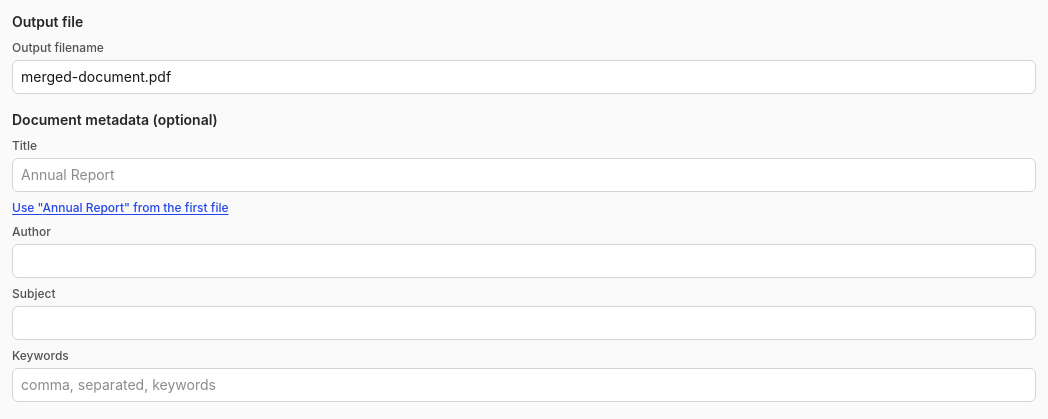
Test: MergePdfSettings › applies the suggested title only when the user clicks the suggestion
Click the button "Use \"Annual Report\" from the first file" at {"x": 120, "y": 208}, box [12,200,228,216]
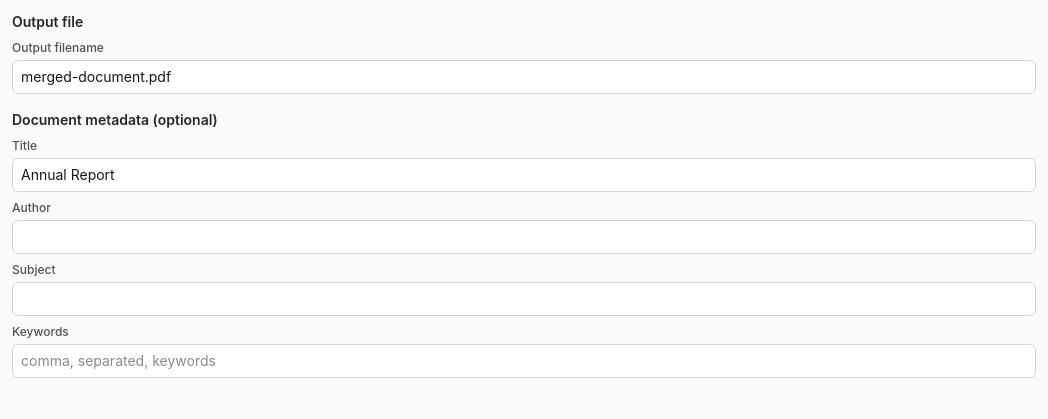
Expected: the field labelled "Title" holds "Annual Report", [12,158,1036,192]
